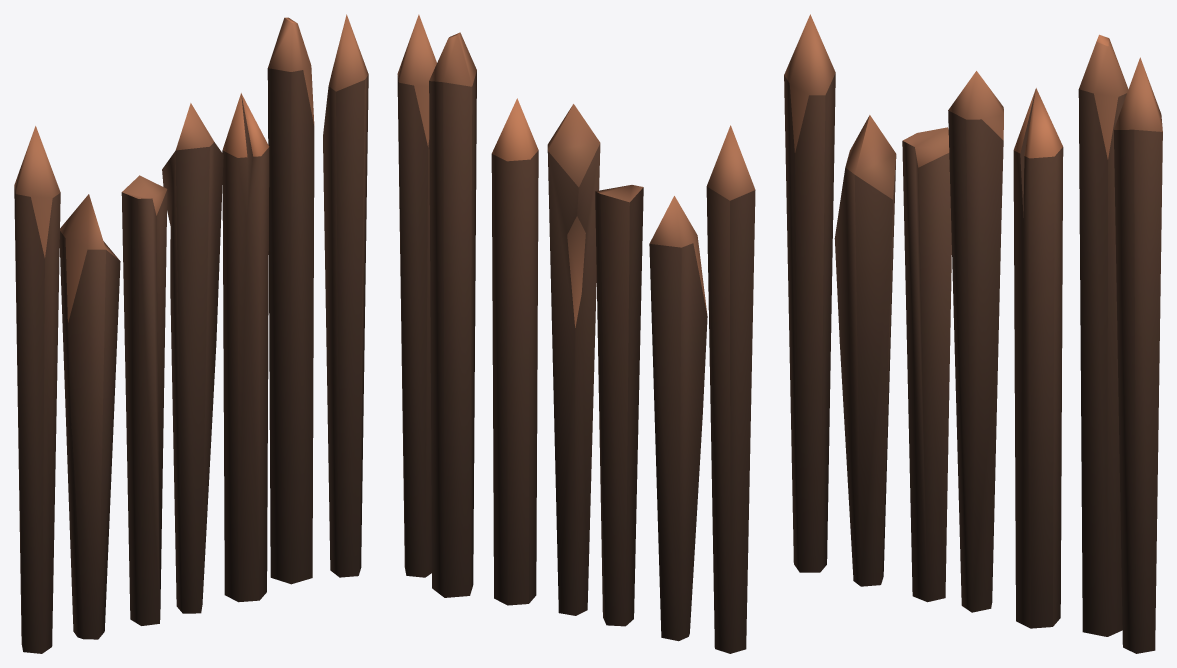
Rendered from Palisade_1B.fbx.
3 renders of one model, left to right at view 1: azimuth 30°, elevation 25°; view 2: azimuth 150°, elevation 25°; view 3: azimuth 330°, elevation 25°, orthographic. The views are drawn at different scales.
Parts seen in each view (by area): view 1: Palisade_1B; view 2: Palisade_1B; view 3: Palisade_1B.
Part boxes in pixels (x1,y1,x2,y2): Palisade_1B: (14, 14, 368, 653); Palisade_1B: (397, 14, 755, 653); Palisade_1B: (784, 14, 1162, 653).
Bounding box in the file's own units: 201 × 301 × 36.19.
